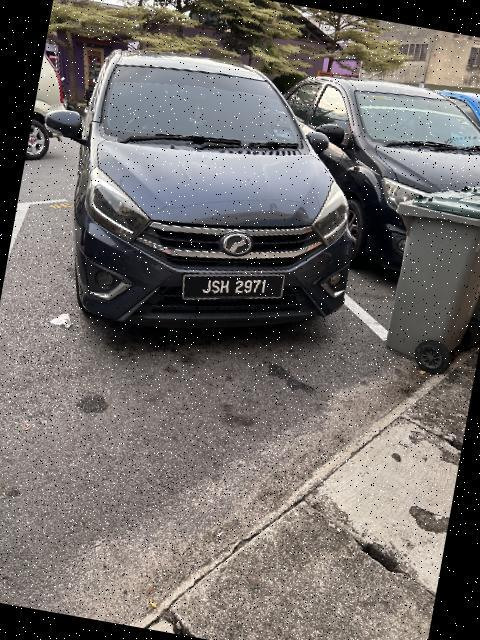JSH2971: (180, 257, 287, 318)
License_Plate: (180, 257, 287, 318)
car: (19, 37, 396, 382), (252, 50, 480, 300)
